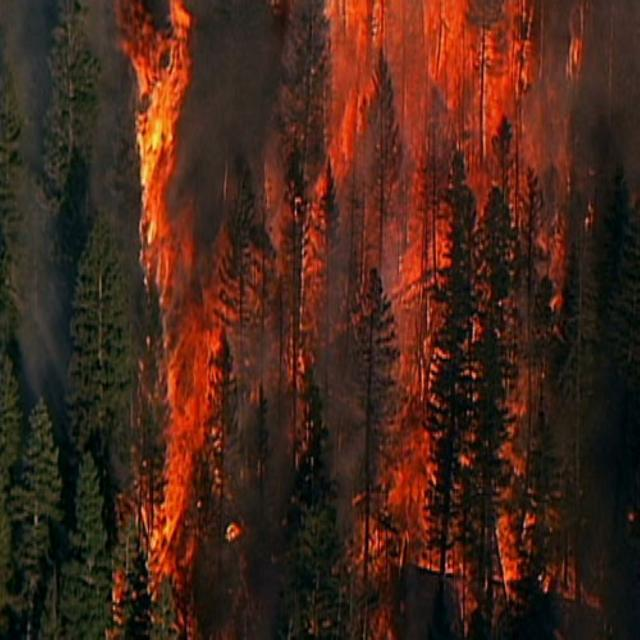Fire: (362, 35, 455, 640), (355, 0, 528, 178), (126, 0, 193, 387), (159, 304, 223, 594), (326, 15, 364, 195)
